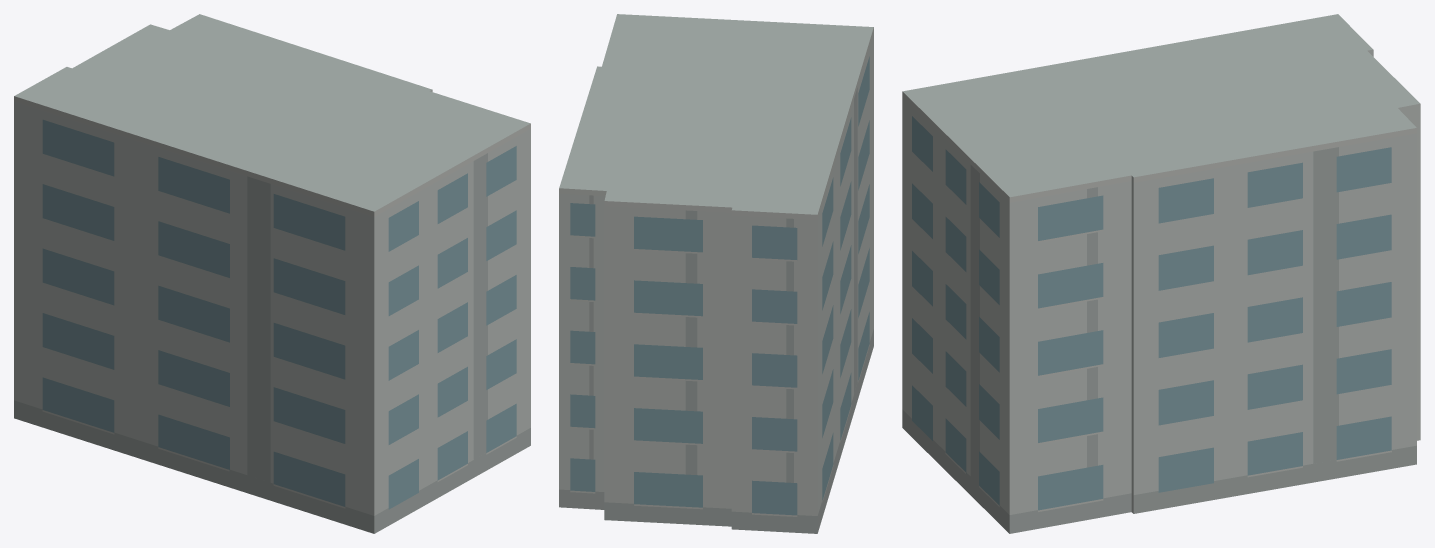
File: survey-upis-32677911.glb
The picture shows the model from 3 angles, left to right: view 1: azimuth 30°, elevation 25°; view 2: azimuth 150°, elevation 25°; view 3: azimuth 270°, elevation 25°; orthographic projection. The views are drawn at different scales.
Visible parts, largest first — view 1: survey-upis-32677911.tmp; view 2: survey-upis-32677911.tmp; view 3: survey-upis-32677911.tmp.
Part boxes in pixels (x1,y1,x2,y2): survey-upis-32677911.tmp: [14, 14, 530, 533]; survey-upis-32677911.tmp: [559, 14, 873, 533]; survey-upis-32677911.tmp: [902, 14, 1420, 533].
Bounding box in the file's own units: 17.12 × 14.65 × 20.44.
